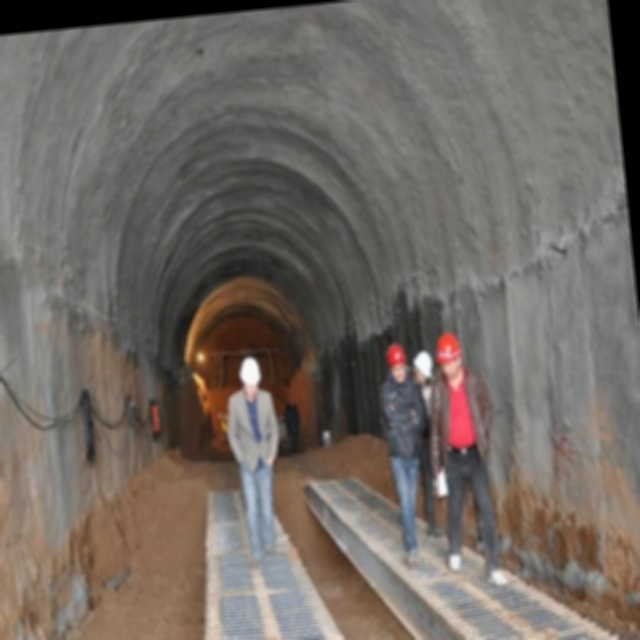Con_Casco: (238, 355, 263, 401)
